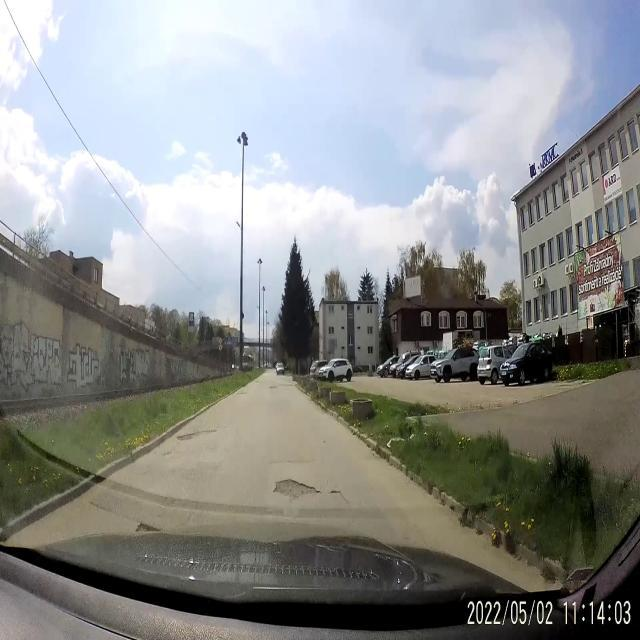Pothole: (273, 474, 321, 516), (130, 517, 165, 545), (175, 424, 222, 442), (326, 486, 352, 510), (234, 388, 249, 399), (266, 385, 278, 391), (254, 376, 259, 387), (162, 451, 172, 456), (322, 441, 327, 444)
